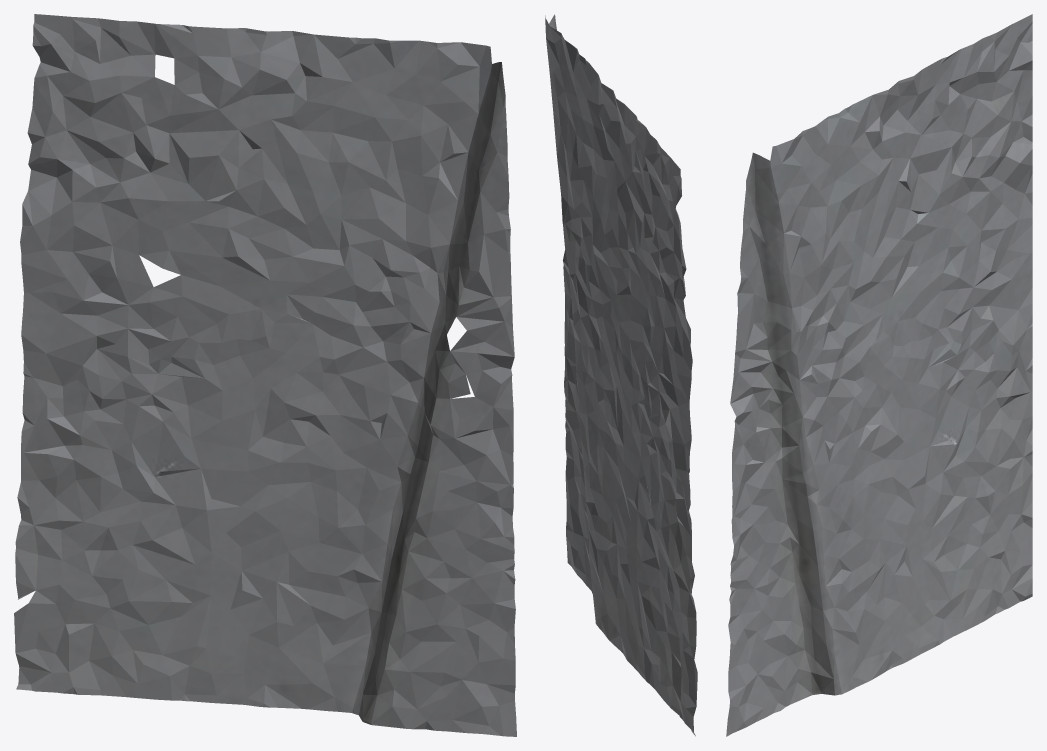
The picture shows the model from 3 angles, left to right: view 1: azimuth 30°, elevation 25°; view 2: azimuth 150°, elevation 25°; view 3: azimuth 270°, elevation 25°; orthographic projection. The views are drawn at different scales.
Bounding box in the file's own units: 0.4296 × 0.8374 × 0.3936.
2 materials, 2 textured.
